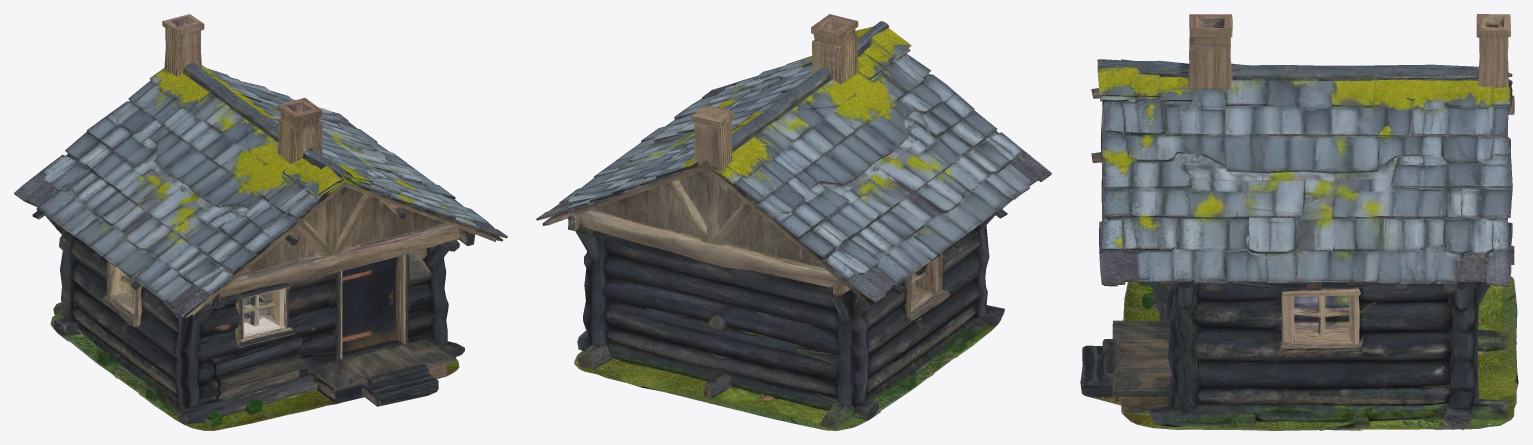
The model's file is distant-woodland-shack.glb.
3 renders of one model, left to right at view 1: azimuth 30°, elevation 25°; view 2: azimuth 150°, elevation 25°; view 3: azimuth 270°, elevation 25°, orthographic. The views are drawn at different scales.
Bounding box in the file's own units: 1.89 × 1.48 × 1.79.
Materials: 1 (1 with a texture image).
